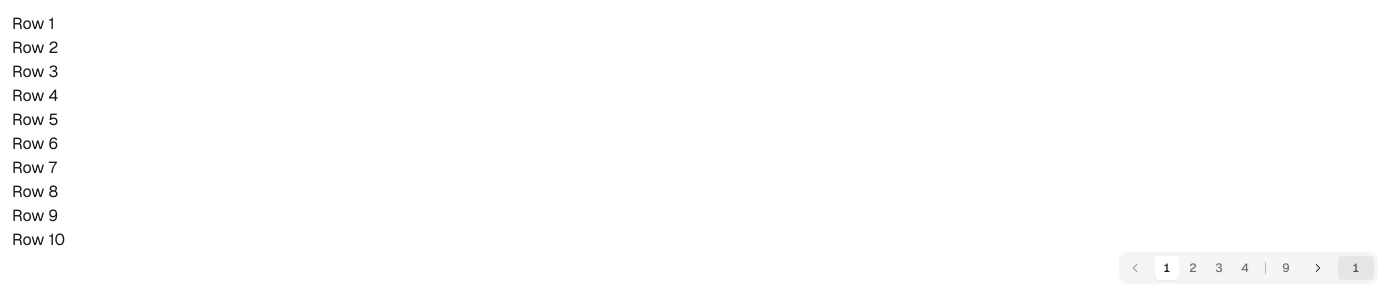
Test: the go-to-page box › shows the current page
The image size is (1378, 299).
Expected: the field named "Go to page of rows" holds "1", [1338,256,1374,280]
Click the button named "Next page of rows" at (1318, 268), box [1306,256,1330,280]
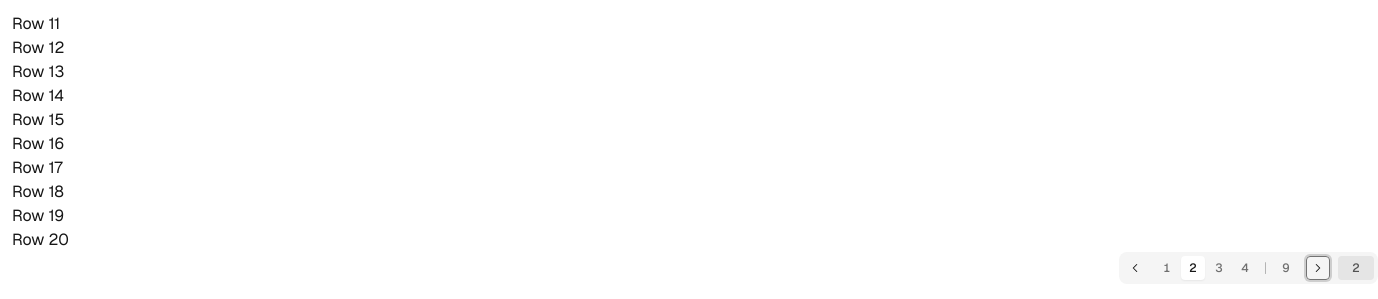
Expected: the field named "Go to page of rows" holds "2", [1338,256,1374,280]
